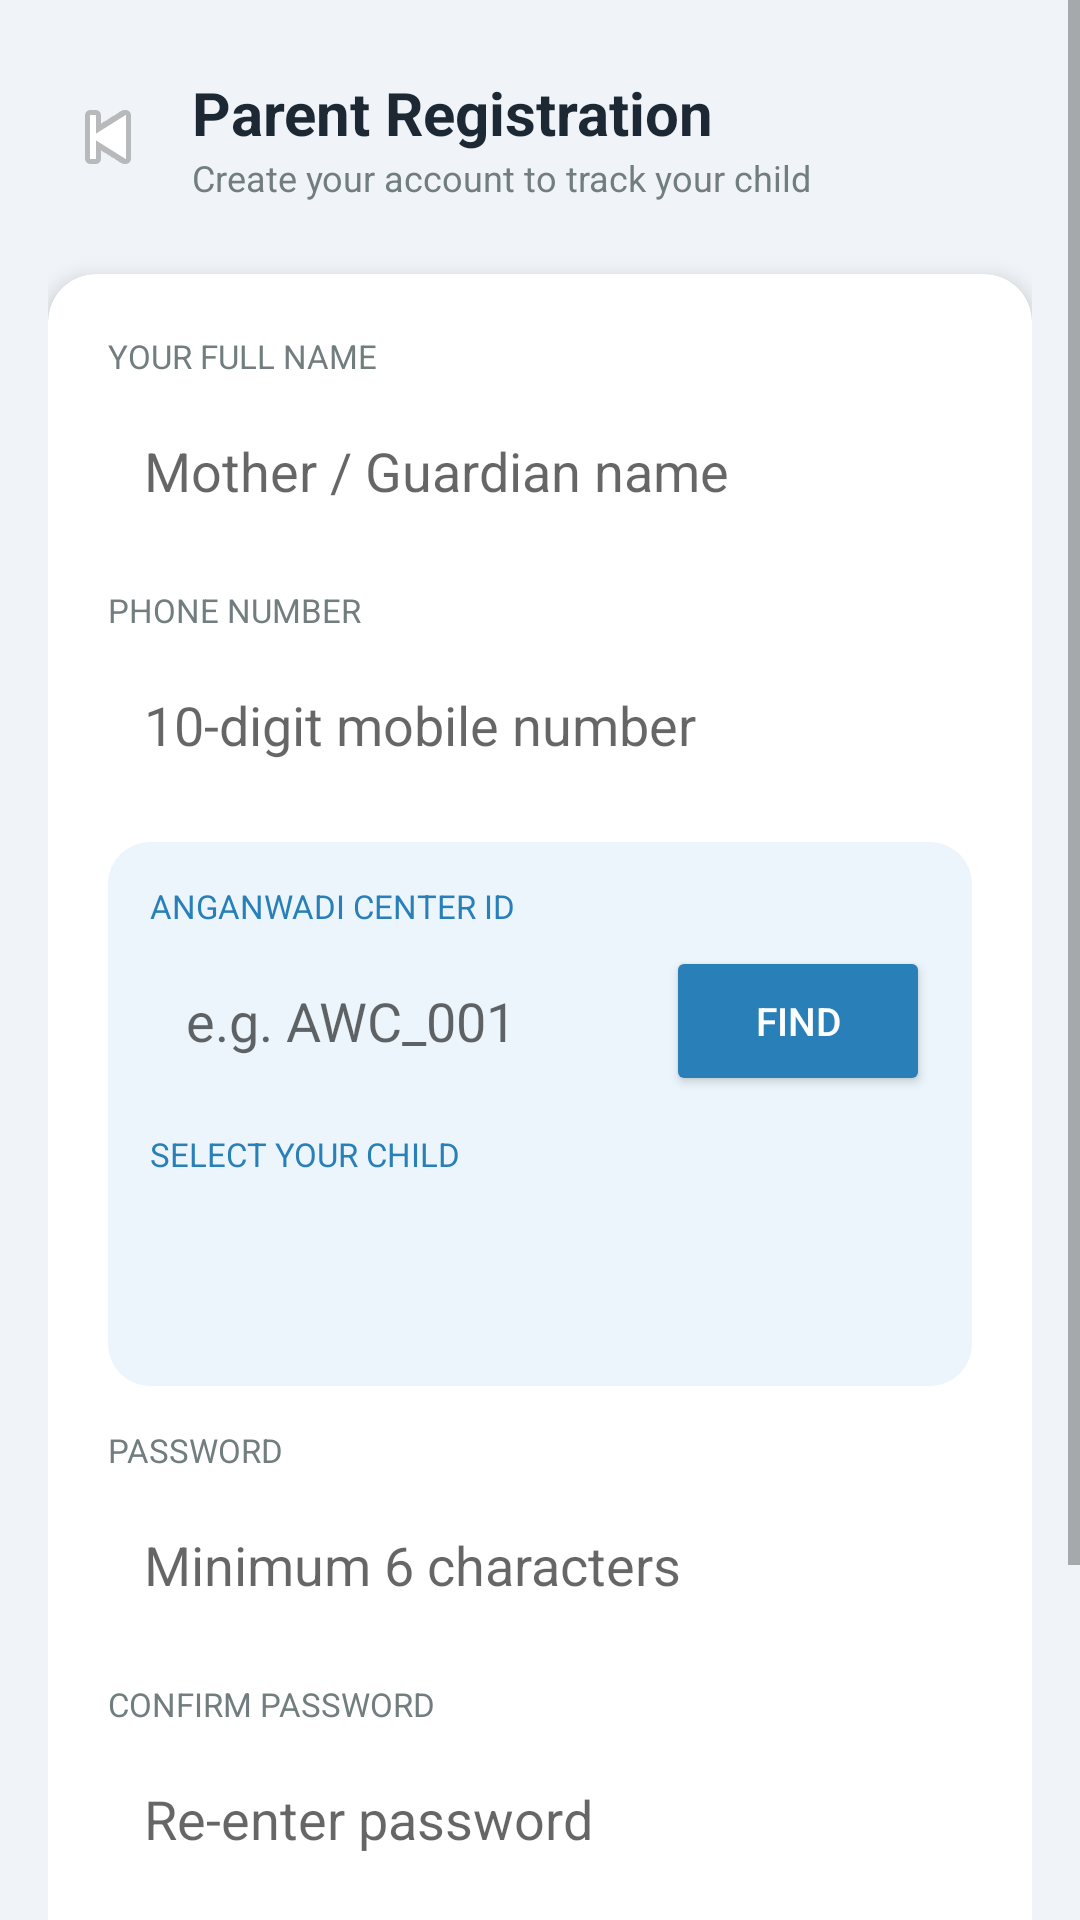

Screen size 1080w x 1920h. Icon name, then its center in pixels as [x,y]:
previous: [108,137]
